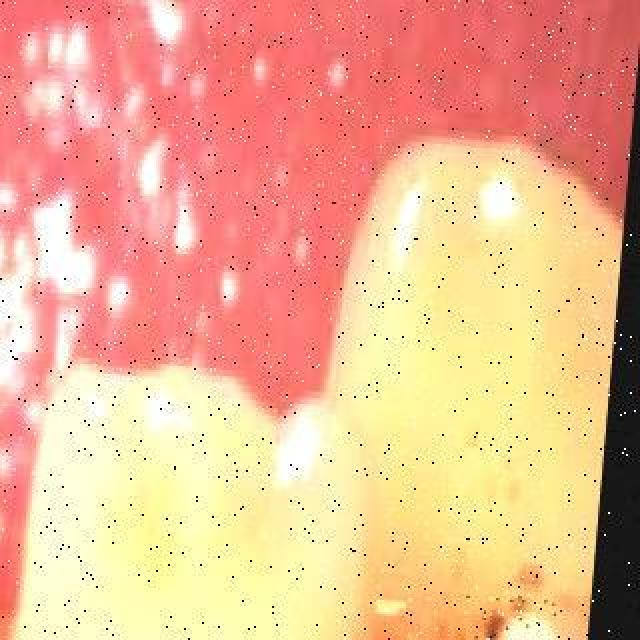maligned: (278, 110, 640, 558)
spacing: (0, 312, 110, 626)
